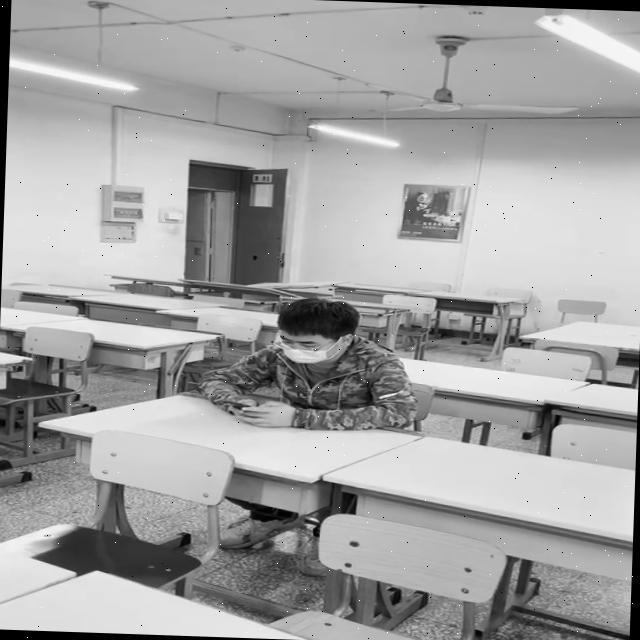phone: (197, 295, 420, 432)
